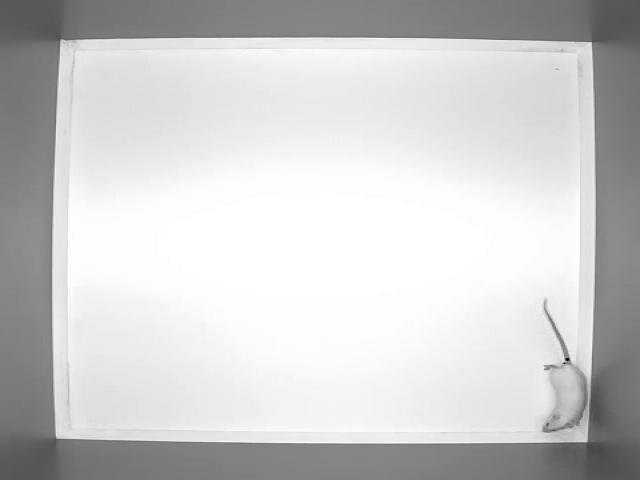Tikus: (526, 291, 594, 440)
